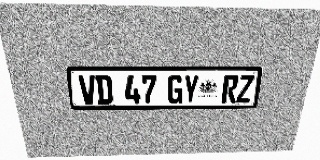4: (124, 75, 141, 104)
7: (141, 75, 156, 104)
D: (95, 75, 113, 104)
G: (167, 75, 183, 104)
R: (221, 75, 239, 103)
V: (78, 75, 97, 105)
Y: (183, 75, 199, 103)
Z: (236, 75, 255, 103)
